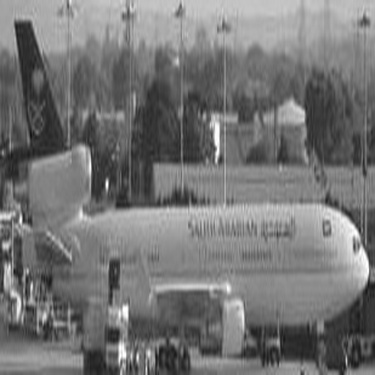airplane: (7, 6, 371, 372)
